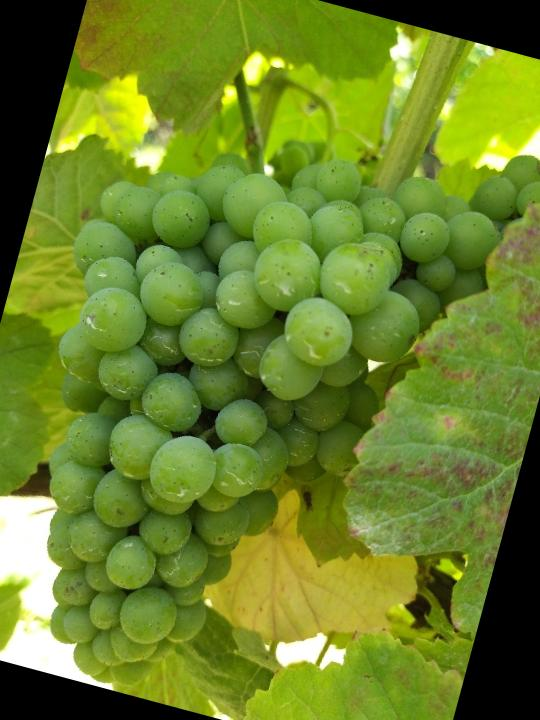grape: (0, 131, 446, 720)
